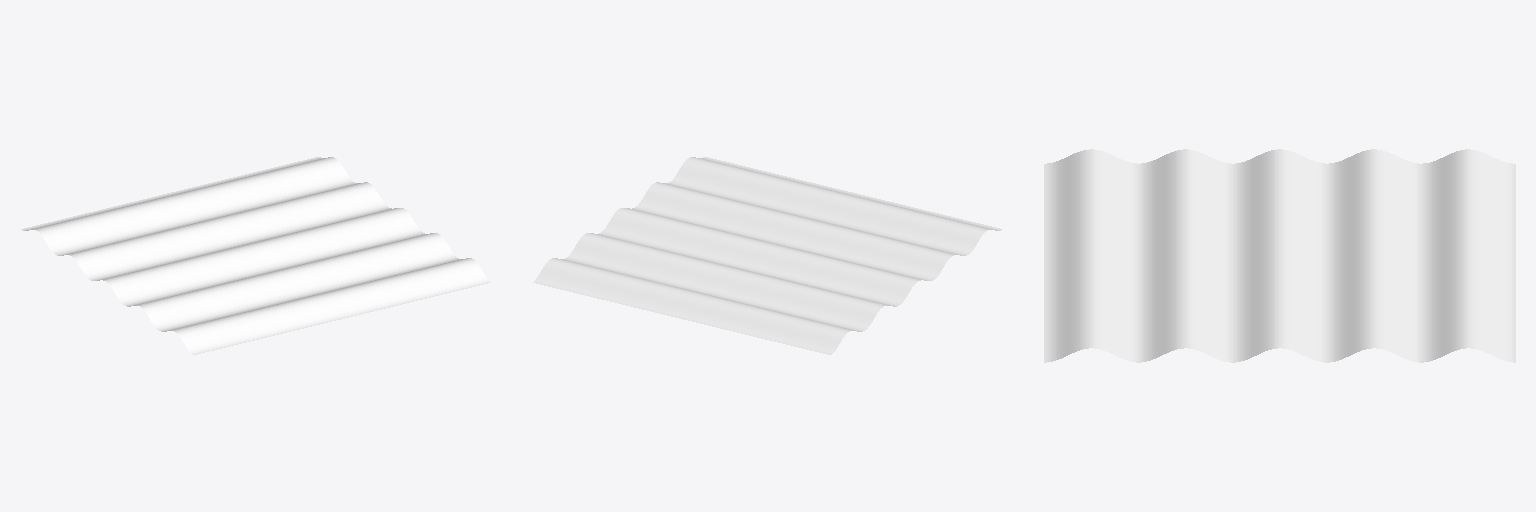
The robot description file, URDF, robot "undulating_a075_w3":
<?xml version="1.0" ?>
<robot name="undulating_a075_w3">
  <link concave="yes" name="undulatingLink">
  <contact>
      <lateral_friction value="2"/>
  </contact>
    <inertial>
      <origin rpy="0 0 0" xyz="0 0 0"/>
       <mass value=".0"/>
       <inertia ixx="0" ixy="0" ixz="0" iyy="0" iyz="0" izz="0"/>
    </inertial>
    <visual>
      <origin rpy="0 0 0" xyz="0 0 0"/>
      <geometry>
		    <mesh filename="package://snakelib_terrain/meshes/undulating_a025_w3.obj" scale="1 1 1"/>
      </geometry>
       <material name="white">
        <color rgba="1 1 1 1"/>
      </material>
    </visual>
    <collision concave="yes">
      <origin rpy="0 0 0" xyz="0 0 0"/>
      <geometry>
	 	    <mesh filename="package://snakelib_terrain/meshes/undulating_a025_w3.obj" scale="1 1 1"/>
      </geometry>
    </collision>
  </link>
</robot>
<!--- Undulating terrain with amplitude 0.25 meters and wavelength of 3 meters -->

--- What the picture shows (computed from the rendered views, not written in the file) ---
The picture shows the robot from 3 angles, left to right: view 1: azimuth 30°, elevation 25°; view 2: azimuth 150°, elevation 25°; view 3: azimuth 270°, elevation 25°; orthographic projection.
Robot: undulating_a075_w3 — 1 links, 0 joints (none); root link undulatingLink; default pose: every joint at zero.
Visible links, largest first — view 1: undulatingLink; view 2: undulatingLink; view 3: undulatingLink.
Link boxes in pixels (x1,y1,x2,y2): undulatingLink: (21, 157, 490, 354); undulatingLink: (533, 157, 1002, 354); undulatingLink: (1044, 149, 1515, 362).
Bounding box of the posed robot: 15 × 15 × 0.4995 m (x, y, z).
1 mesh visuals loaded from 1 distinct referenced files (1 OBJ).
